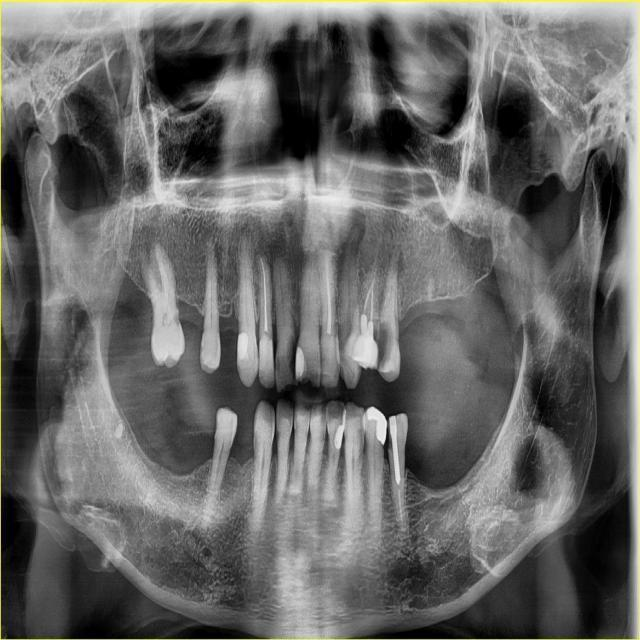Caries: (377, 321, 394, 371), (286, 333, 298, 384), (171, 305, 182, 329), (302, 371, 318, 386), (275, 351, 281, 381), (214, 413, 220, 440), (374, 318, 379, 344), (388, 419, 392, 450)
Filling: (352, 314, 378, 370), (344, 308, 359, 385), (320, 334, 340, 387), (259, 333, 275, 389), (367, 406, 387, 447), (335, 406, 346, 449), (237, 331, 248, 367), (296, 344, 306, 382)
Missing teeth: (132, 395, 215, 477), (404, 412, 483, 488), (398, 301, 455, 381), (226, 404, 260, 468), (175, 300, 207, 364), (215, 315, 242, 369)
Periapical lesion: (230, 210, 277, 275), (338, 206, 374, 275)
Root Canal Treatment: (363, 273, 376, 321), (261, 258, 268, 330), (326, 253, 331, 333), (398, 490, 403, 522)
Root Piece: (114, 423, 126, 439), (426, 276, 434, 298)
